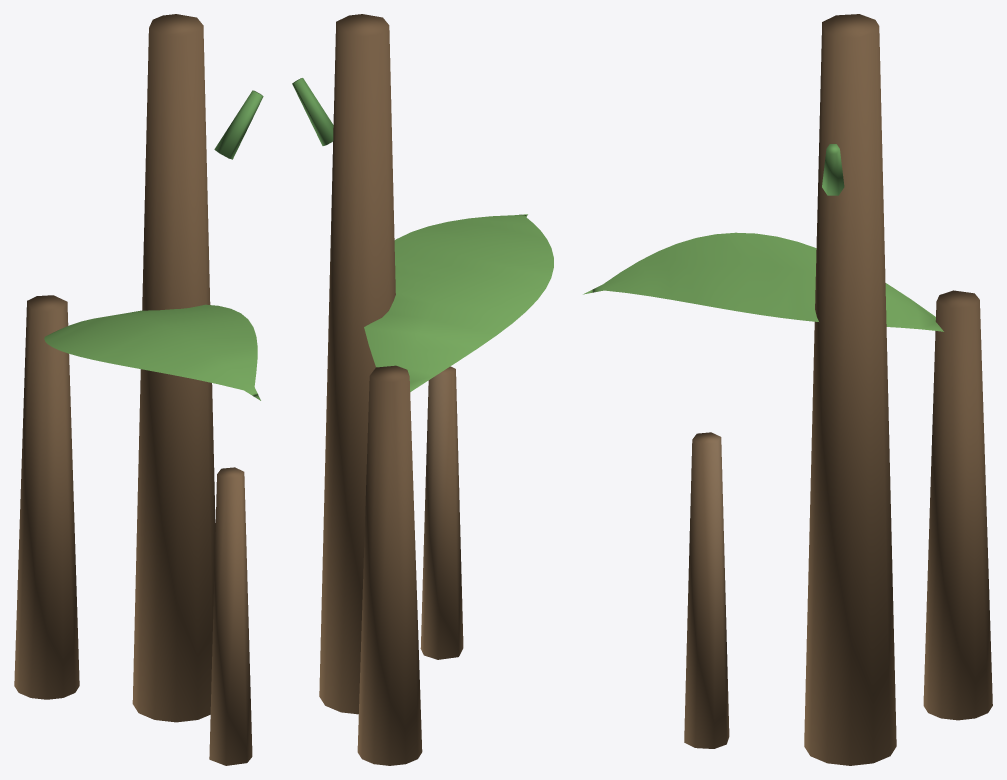
Rendered from banana_plant_LOD2.glb.
3 views of the same model, side by side, from view 1: azimuth 30°, elevation 25°; view 2: azimuth 150°, elevation 25°; view 3: azimuth 270°, elevation 25° (orthographic). The views are drawn at different scales.
Visible parts, largest first — view 1: banana_plant_LOD2; view 2: banana_plant_LOD2; view 3: banana_plant_LOD2.
Part boxes in pixels (x1,y1,x2,y2): banana_plant_LOD2: (14, 14, 263, 765); banana_plant_LOD2: (292, 14, 553, 765); banana_plant_LOD2: (583, 14, 992, 765).
Size of the model in its own units: 0.9341 by 2.75 by 1.42.
